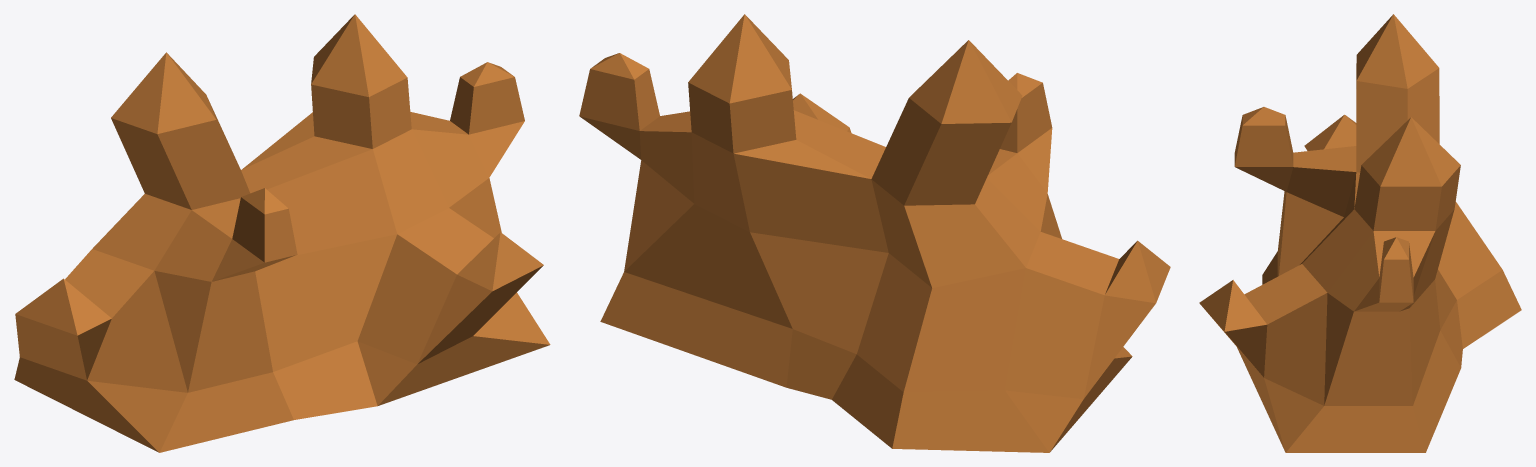
File: copper_rock.glb
3 views of the same model, side by side, from view 1: azimuth 30°, elevation 25°; view 2: azimuth 150°, elevation 25°; view 3: azimuth 270°, elevation 25° (orthographic). The views are drawn at different scales.
Parts seen in each view (by area): view 1: copper_rock; view 2: copper_rock; view 3: copper_rock.
Part boxes in pixels (x1,y1,x2,y2): copper_rock: [14, 14, 550, 452]; copper_rock: [579, 14, 1170, 452]; copper_rock: [1199, 14, 1521, 452].
Size of the model in its own units: 2.29 by 1.4 by 1.38.
